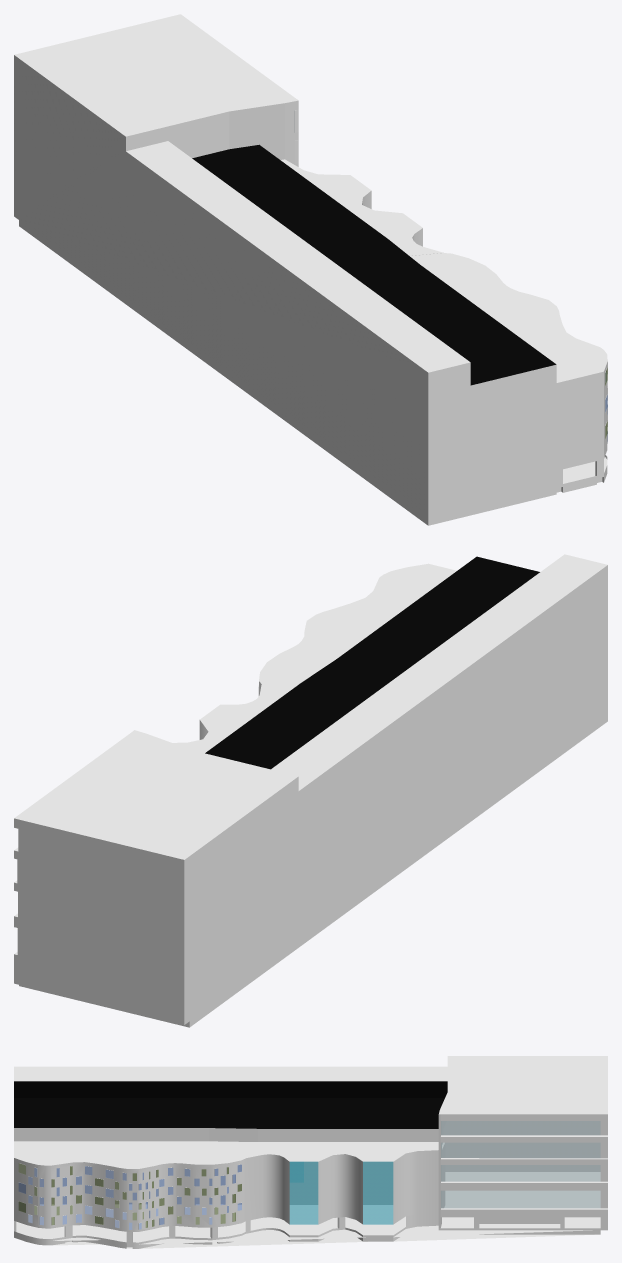
Rendered from Building7.obj.
3 renders of one model, top to bottom at view 1: azimuth 30°, elevation 25°; view 2: azimuth 150°, elevation 25°; view 3: azimuth 270°, elevation 25°, orthographic. The views are drawn at different scales.
Parts seen in each view (by area): view 1: Mesh1 Model; view 2: Mesh1 Model; view 3: Mesh1 Model.
Part boxes in pixels (x1,y1,x2,y2): Mesh1 Model: [14, 14, 607, 525]; Mesh1 Model: [14, 554, 607, 1027]; Mesh1 Model: [14, 1056, 607, 1248].
Bounding box in the file's own units: 847 × 652 × 2921.
Materials: 8 (3 with a texture image).
